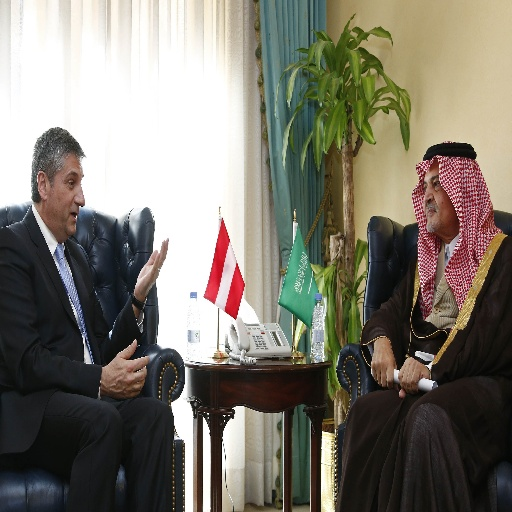hand: (134, 235, 171, 304), (97, 345, 139, 403), (397, 353, 430, 400), (370, 338, 398, 392)
